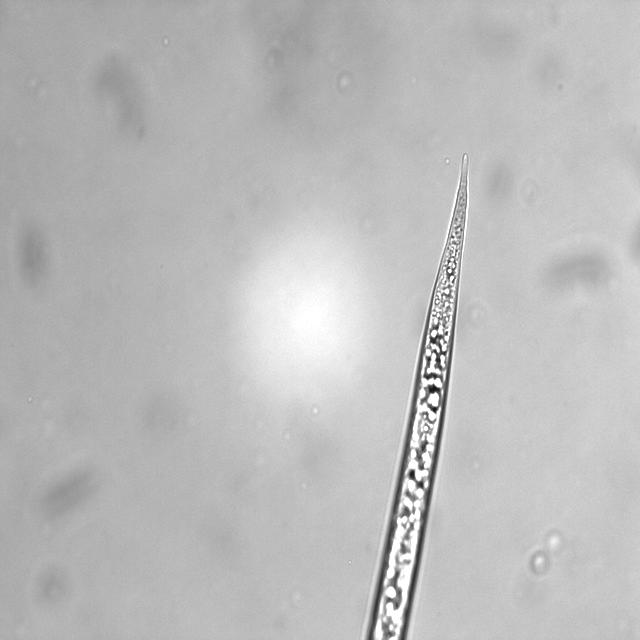Meloidogyne: (372, 142, 473, 552)
